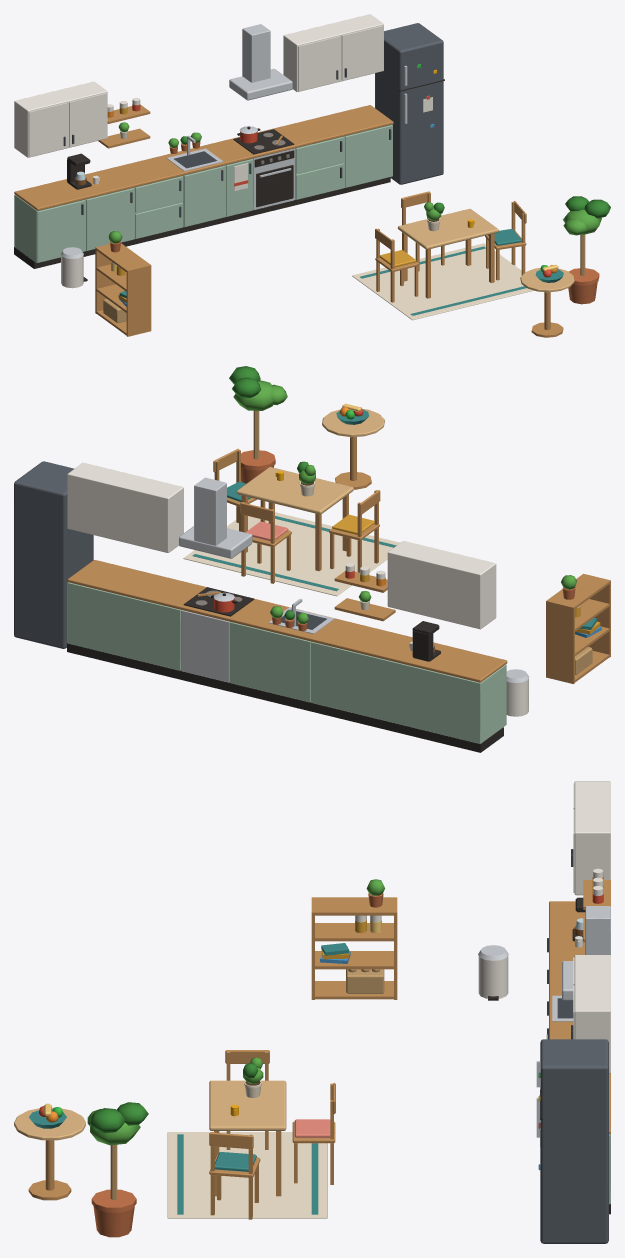
The model's file is einrichtung_kueche.glb.
3 views of the same model, one above another, from view 1: azimuth 30°, elevation 25°; view 2: azimuth 150°, elevation 25°; view 3: azimuth 270°, elevation 25° (orthographic). The views are drawn at different scales.
Parts seen in each view (by area): view 1: einrichtung_kueche; view 2: einrichtung_kueche; view 3: einrichtung_kueche.
Part boxes in pixels (x1,y1,x2,y2): einrichtung_kueche: (14, 14, 610, 337); einrichtung_kueche: (14, 366, 610, 752); einrichtung_kueche: (14, 781, 610, 1243).
Size of the model in its own units: 5.8 by 2.33 by 5.59.
